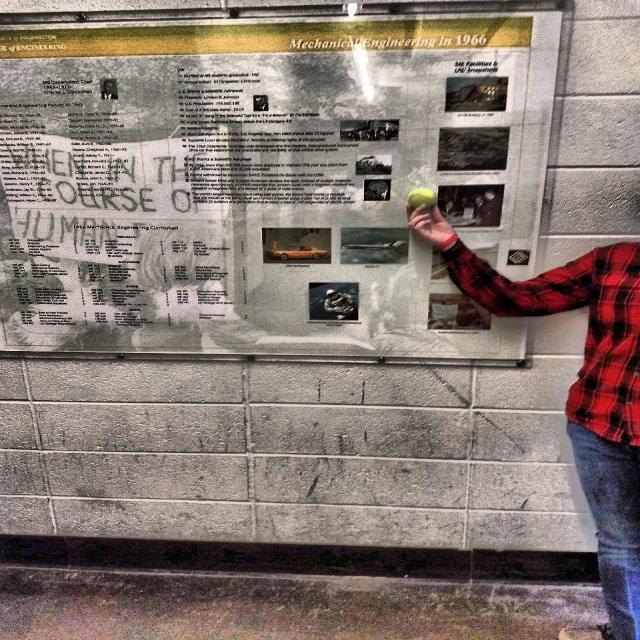tennis-ball: (407, 183, 439, 217)
